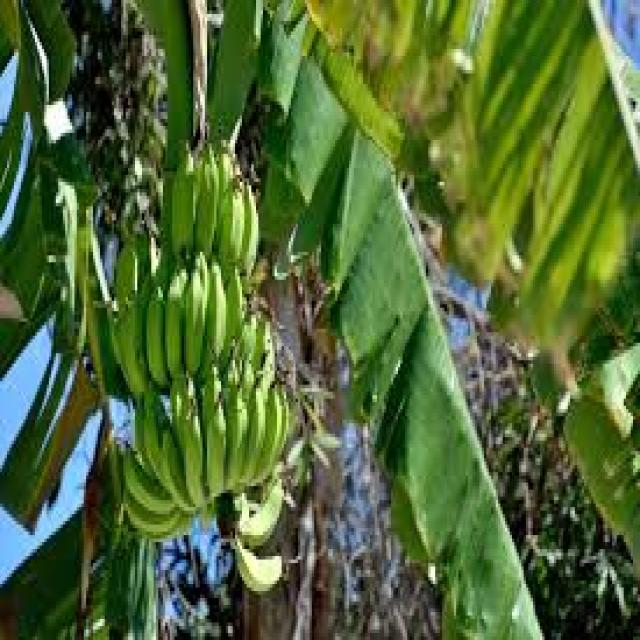banana: (107, 140, 286, 514)
